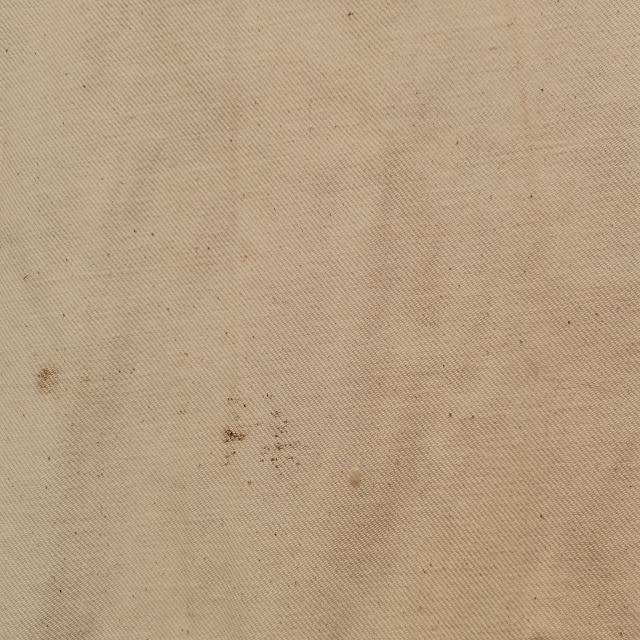taaaches: (256, 410, 306, 475), (221, 416, 248, 474), (34, 354, 62, 402)
